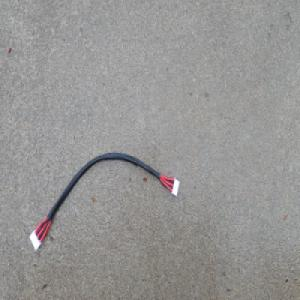Wire: (28, 150, 180, 253)
